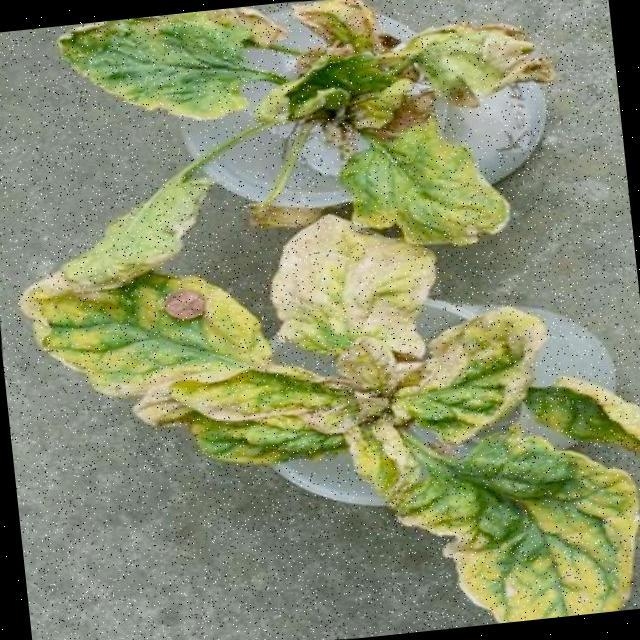Lettuce Mosaic Virus: (1, 190, 640, 640)
